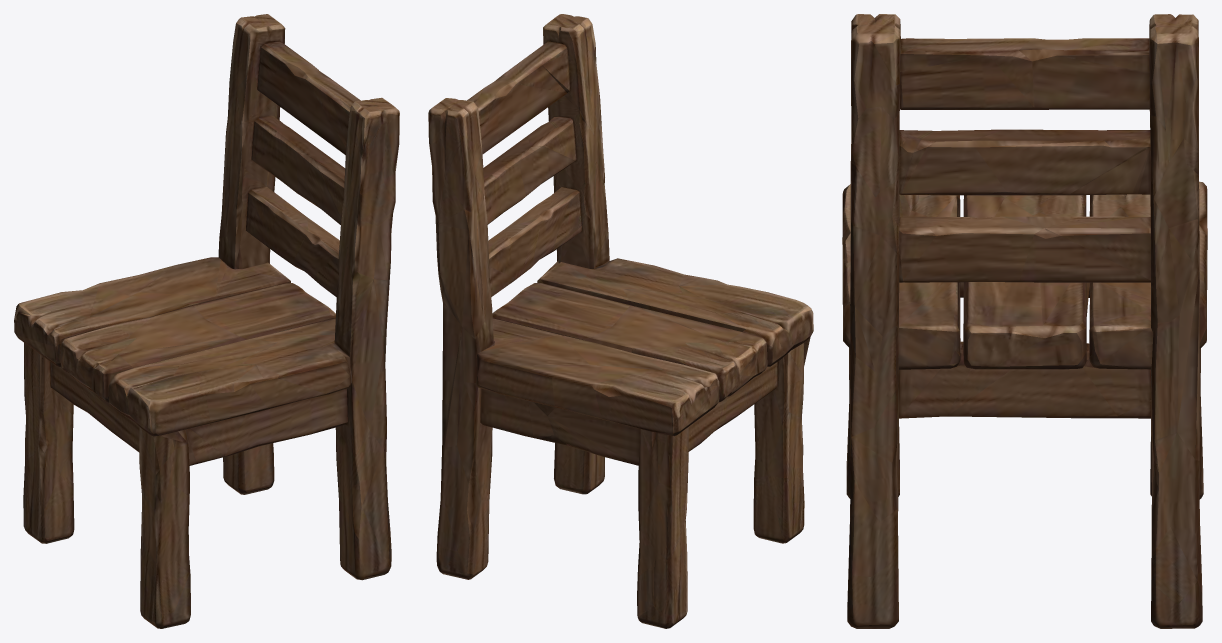
File: chair_left_3d.glb
The picture shows the model from 3 angles, left to right: view 1: azimuth 30°, elevation 25°; view 2: azimuth 150°, elevation 25°; view 3: azimuth 270°, elevation 25°; orthographic projection. The views are drawn at different scales.
Visible parts, largest first — view 1: Mesh_0; view 2: Mesh_0; view 3: Mesh_0.
Boxes of the visible parts, x1=… form: Mesh_0: x1=14, y1=14, x2=399, y2=628; Mesh_0: x1=428, y1=14, x2=813, y2=628; Mesh_0: x1=842, y1=14, x2=1207, y2=628.
Size of the model in its own units: 0.5369 by 0.9375 by 0.5129.
1 material, 1 textured.
